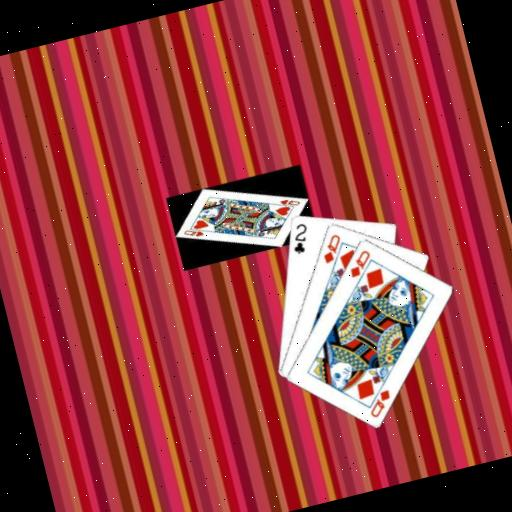2C: (285, 219, 314, 257)
QD: (362, 386, 396, 421), (342, 246, 376, 280), (316, 230, 348, 266)
